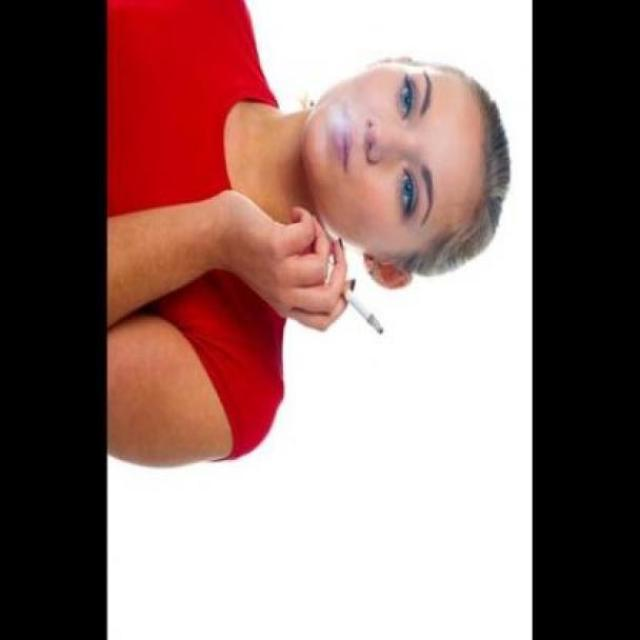rokok: (334, 276, 386, 342)
